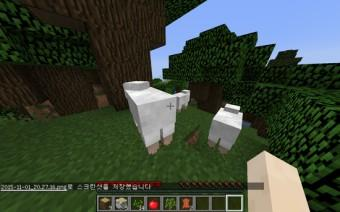sheep: (123, 80, 176, 157), (207, 104, 244, 154)
